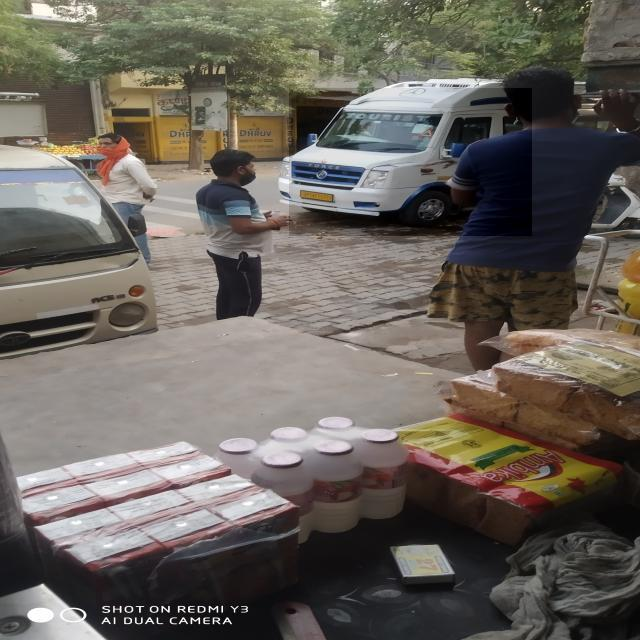Travller: (289, 88, 532, 236)
